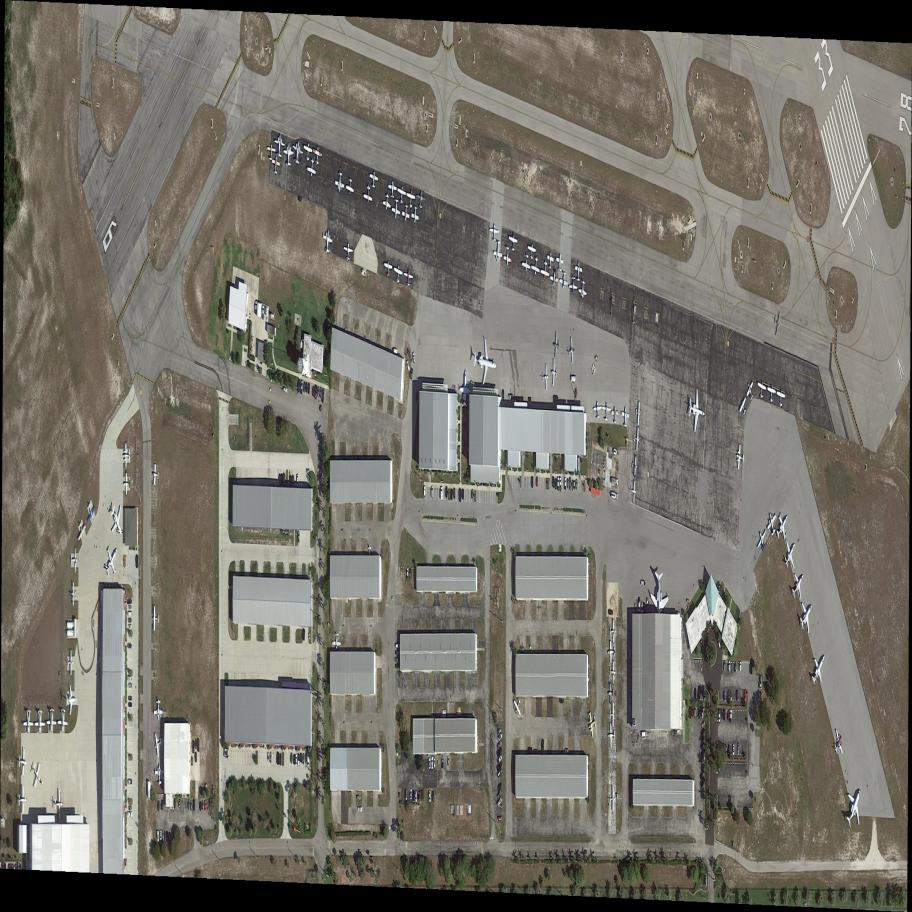large-vehicle: (609, 477, 621, 487), (610, 492, 620, 500)
plane: (836, 776, 873, 841), (792, 587, 821, 642), (803, 643, 834, 694), (97, 536, 127, 587), (776, 529, 804, 581), (102, 496, 131, 546), (473, 335, 498, 389), (786, 562, 811, 610), (770, 504, 795, 549), (687, 385, 707, 438), (649, 572, 669, 620), (750, 523, 774, 559), (828, 724, 849, 763), (29, 757, 45, 793), (764, 508, 780, 542), (734, 394, 753, 422), (73, 516, 90, 546), (509, 693, 527, 721), (83, 496, 99, 527), (742, 377, 758, 407), (459, 369, 471, 408), (291, 137, 304, 168), (772, 306, 783, 339), (66, 684, 77, 716), (587, 708, 598, 740), (321, 228, 333, 257), (273, 133, 285, 161), (334, 170, 346, 196), (18, 748, 28, 778), (735, 443, 745, 473), (153, 730, 163, 759), (493, 240, 504, 265), (393, 262, 404, 287), (283, 143, 294, 167), (508, 230, 519, 254), (756, 379, 767, 403), (578, 277, 588, 303), (312, 144, 323, 167), (540, 259, 551, 282), (403, 267, 414, 290), (306, 157, 317, 180), (601, 401, 612, 424), (531, 254, 541, 279), (391, 197, 401, 222), (23, 711, 34, 733), (489, 222, 500, 244), (35, 710, 45, 734), (58, 708, 68, 732), (503, 245, 513, 269), (567, 336, 575, 366), (776, 387, 786, 411), (123, 441, 131, 470), (55, 790, 63, 819), (766, 383, 777, 404), (303, 141, 313, 164), (345, 175, 355, 198), (363, 183, 373, 206), (397, 184, 407, 207), (406, 188, 416, 211), (154, 699, 163, 724), (521, 253, 531, 275), (369, 168, 379, 190), (416, 190, 426, 212), (155, 763, 164, 787), (47, 708, 56, 732), (19, 787, 27, 814), (343, 242, 353, 263), (388, 179, 398, 200), (631, 453, 639, 479), (633, 427, 641, 453), (621, 406, 630, 429), (559, 270, 569, 290), (549, 268, 559, 288), (527, 242, 537, 262), (383, 259, 393, 279), (551, 359, 558, 387), (152, 606, 159, 633), (574, 261, 583, 282), (401, 204, 410, 225), (608, 723, 615, 750), (383, 193, 392, 214), (607, 682, 615, 705), (609, 787, 616, 813), (553, 333, 560, 359), (630, 479, 637, 505), (635, 401, 642, 427), (556, 253, 565, 273), (271, 156, 280, 176), (411, 206, 420, 226), (71, 548, 78, 573), (569, 276, 578, 295), (332, 632, 341, 651), (593, 401, 602, 420), (267, 143, 276, 162), (152, 463, 159, 487), (123, 472, 130, 496), (542, 363, 548, 391), (608, 640, 615, 664), (609, 660, 616, 684), (67, 650, 73, 677), (546, 251, 554, 270), (70, 582, 76, 606), (610, 620, 616, 644), (609, 704, 615, 728), (611, 406, 619, 424)
small-vehicle: (494, 746, 505, 758), (494, 768, 505, 780), (495, 753, 505, 766), (697, 770, 707, 781), (495, 725, 504, 737), (495, 761, 504, 773), (495, 790, 504, 802), (698, 763, 708, 773), (698, 727, 707, 738), (698, 748, 707, 759), (496, 797, 504, 809), (495, 740, 504, 750), (698, 777, 706, 788), (496, 781, 504, 792), (496, 732, 504, 742), (405, 348, 412, 359), (699, 720, 707, 729), (700, 756, 708, 765), (406, 360, 411, 373), (321, 388, 325, 403), (261, 305, 265, 320), (278, 474, 282, 488), (718, 637, 722, 651), (570, 374, 576, 383), (701, 707, 705, 720), (307, 382, 311, 395), (412, 352, 416, 365), (541, 740, 544, 757), (311, 386, 315, 398), (410, 368, 414, 380), (297, 379, 300, 395), (307, 752, 310, 768), (357, 806, 363, 814), (613, 448, 618, 457), (192, 740, 195, 755), (638, 598, 641, 613), (750, 661, 753, 676), (393, 347, 398, 356), (300, 380, 303, 395), (127, 811, 133, 818), (127, 779, 133, 786), (700, 743, 706, 750), (641, 731, 647, 738), (281, 474, 284, 488), (255, 301, 258, 315), (406, 567, 409, 581), (279, 752, 282, 766), (531, 475, 534, 489), (459, 489, 462, 503), (508, 393, 514, 400), (127, 642, 132, 650), (205, 784, 208, 797), (694, 705, 697, 718), (283, 475, 286, 488), (292, 475, 295, 488), (728, 661, 731, 674), (718, 709, 721, 722), (297, 753, 300, 766), (445, 486, 448, 499), (190, 800, 193, 812), (127, 611, 133, 617), (157, 800, 160, 812), (557, 478, 560, 490), (564, 479, 567, 491), (319, 388, 322, 400), (527, 748, 533, 754), (694, 688, 697, 700), (305, 382, 308, 394), (303, 381, 306, 393), (305, 753, 308, 765), (293, 754, 296, 766), (267, 752, 270, 764), (471, 489, 474, 501), (412, 789, 415, 801), (405, 789, 408, 801), (405, 747, 408, 759), (396, 744, 399, 756), (128, 682, 133, 689), (128, 624, 133, 631), (127, 598, 132, 605), (128, 604, 133, 611), (641, 580, 646, 587), (497, 816, 502, 823), (565, 748, 570, 755), (534, 748, 539, 755), (298, 196, 303, 203), (395, 643, 400, 650), (395, 656, 400, 663), (166, 831, 169, 842), (161, 800, 164, 811), (725, 745, 728, 756), (552, 477, 555, 488), (575, 479, 578, 490), (317, 386, 320, 397), (730, 692, 733, 703), (431, 487, 434, 498), (283, 386, 287, 394), (520, 646, 524, 654), (199, 801, 202, 811), (569, 477, 571, 492), (739, 662, 742, 672), (395, 663, 400, 669), (277, 751, 279, 766), (502, 388, 504, 403), (128, 804, 132, 811), (560, 478, 562, 492), (730, 709, 732, 723), (559, 697, 563, 704), (290, 475, 292, 489), (431, 756, 433, 770), (441, 487, 443, 501), (160, 829, 162, 842), (157, 830, 159, 843), (729, 795, 731, 808), (737, 743, 739, 756), (689, 706, 691, 719), (174, 797, 176, 810), (303, 629, 305, 642), (136, 556, 138, 569), (744, 690, 746, 703), (736, 690, 738, 703), (728, 690, 730, 703), (303, 753, 305, 766), (442, 756, 444, 769), (453, 488, 455, 501), (128, 696, 133, 701), (395, 650, 400, 655), (162, 830, 164, 842), (164, 831, 166, 843), (193, 800, 195, 812), (212, 785, 214, 797), (209, 798, 211, 810), (128, 702, 132, 708), (127, 676, 131, 682), (128, 617, 132, 623), (733, 744, 735, 756), (567, 479, 569, 491), (723, 709, 725, 721), (704, 689, 706, 701), (297, 475, 299, 487), (298, 531, 300, 543), (295, 754, 297, 766), (448, 756, 450, 768), (357, 795, 361, 801), (429, 791, 431, 803), (462, 489, 464, 501), (451, 489, 453, 501), (169, 832, 171, 843), (188, 800, 190, 811), (195, 752, 197, 763), (692, 706, 694, 717), (728, 745, 730, 756), (555, 479, 557, 490), (641, 602, 643, 613), (728, 710, 730, 721), (735, 663, 737, 674), (724, 661, 726, 672), (724, 692, 726, 703), (409, 568, 411, 579), (291, 753, 293, 764), (270, 752, 272, 763), (536, 477, 538, 488), (429, 758, 431, 769), (434, 759, 436, 770), (424, 487, 426, 498), (415, 791, 417, 802), (410, 789, 412, 800), (202, 801, 204, 811), (204, 800, 206, 810), (721, 709, 723, 719), (432, 792, 434, 802), (179, 800, 181, 808)
